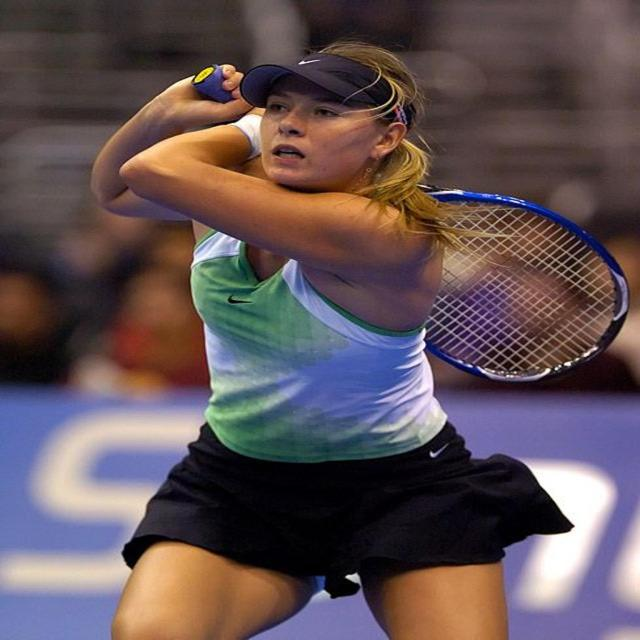Face: (239, 79, 368, 187)
